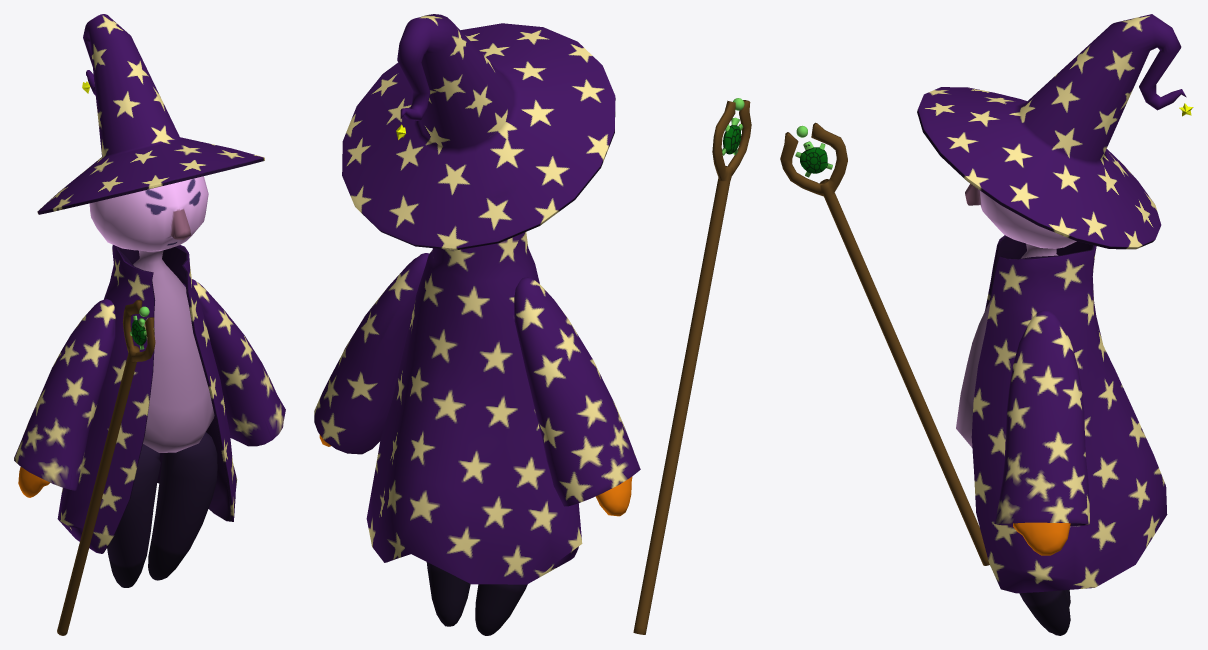
File: mesh_aprendiz.fbx
The picture shows the model from 3 angles, left to right: view 1: azimuth 30°, elevation 25°; view 2: azimuth 150°, elevation 25°; view 3: azimuth 270°, elevation 25°; orthographic projection. The views are drawn at different scales.
Parts seen in each view (by area): view 1: mangas_low, cape_low, body_low, hat_low, legs_low, staff_low, hands_low, turtle_low; view 2: cape_low, hat_low, mangas_low, staff_low, legs_low, hands_low, turtle_low; view 3: cape_low, hat_low, mangas_low, staff_low, body_low, legs_low, hands_low, turtle_low.
Part boxes in pixels (x1,y1,x2,y2): mangas_low: [14, 279, 285, 490]; cape_low: [57, 245, 237, 553]; body_low: [89, 176, 214, 452]; hat_low: [37, 14, 264, 214]; legs_low: [107, 432, 217, 587]; staff_low: [57, 299, 155, 635]; hands_low: [18, 467, 49, 497]; turtle_low: [129, 306, 149, 349]; cape_low: [366, 232, 582, 584]; hat_low: [342, 14, 615, 250]; mangas_low: [314, 253, 640, 506]; staff_low: [633, 100, 751, 634]; legs_low: [426, 562, 527, 635]; hands_low: [319, 435, 632, 516]; turtle_low: [722, 98, 744, 155]; cape_low: [971, 235, 1167, 593]; hat_low: [917, 14, 1186, 249]; mangas_low: [994, 310, 1089, 525]; staff_low: [780, 122, 989, 565]; body_low: [956, 183, 1076, 447]; legs_low: [1019, 590, 1070, 635]; hands_low: [1013, 522, 1070, 555]; turtle_low: [795, 125, 832, 177].
Bounding box in the file's own units: 929 × 1851 × 1134.
